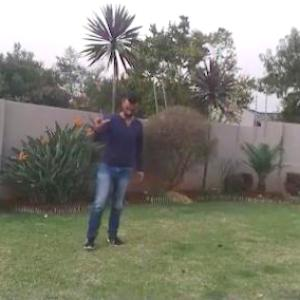land_hand: (92, 103, 112, 130)
